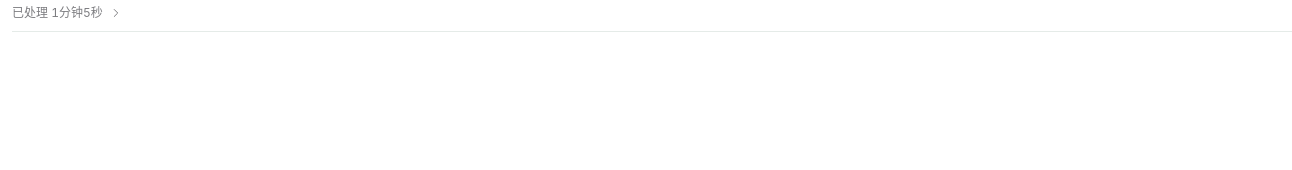
Codex-style activity trace › the running round lists every step and folds once it finishes
Later steps or results of the test are not shown.
expect the text "已处理 1分钟5秒" is shown: met, box top-left (12, 3), bottom-right (103, 22)
expect the text "先查澄清面板的前端代码。" is not shown: met
Opening it shows every note and step, each round expanded.
Click the heading "已处理 1分钟5秒". click: (67, 12)
box: top-left (12, 5), bottom-right (123, 20)
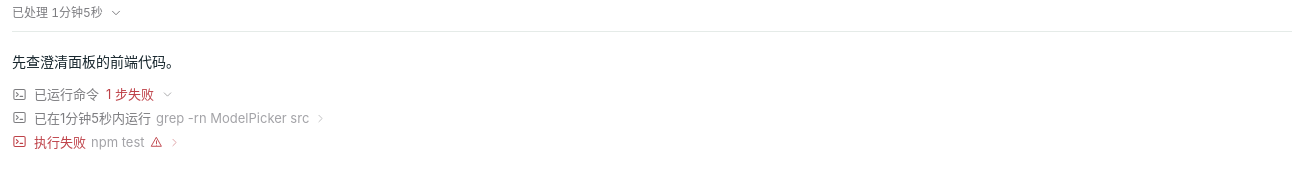
expect the text "先查澄清面板的前端代码。" is shown: met, box top-left (12, 53), bottom-right (180, 70)
expect the text "已运行命令" is shown: met
expect the text "grep -rn ModelPicker src" is shown: met, box top-left (156, 107), bottom-right (309, 129)
Folding a round keeps its failures visible.
Click the text "已运行命令". click: (66, 94)
box: top-left (34, 83), bottom-right (99, 105)
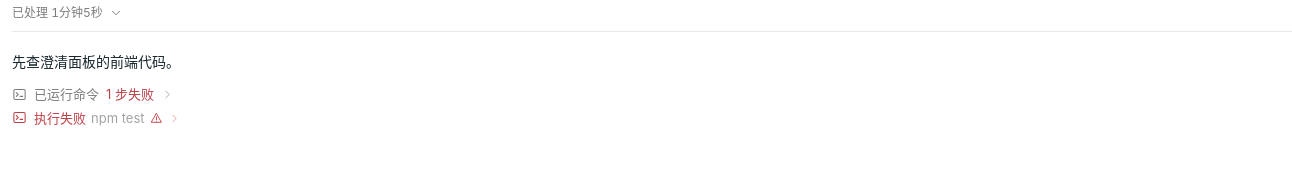
expect the text "1 步失败" is shown: met, box top-left (106, 83), bottom-right (154, 105)
expect the text "npm test" is shown: met, box top-left (91, 107), bottom-right (144, 129)
expect the heading "grep -rn ModelPicker src" is gone: met
